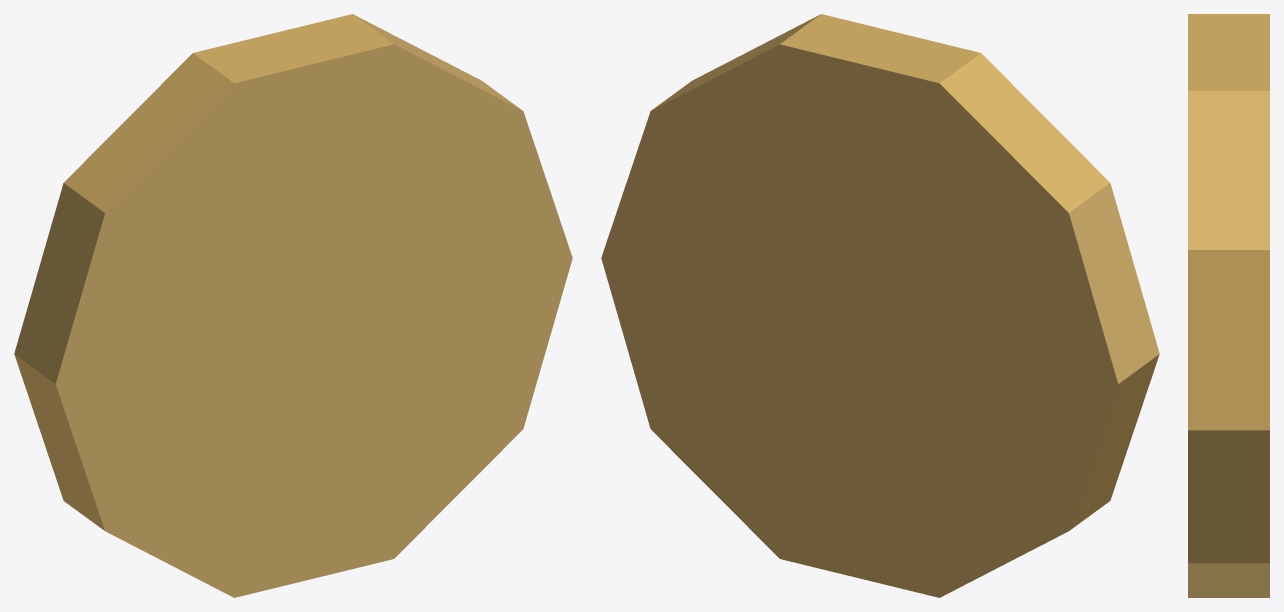
File: col_stamp.glb
3 renders of one model, left to right at view 1: azimuth 30°, elevation 25°; view 2: azimuth 150°, elevation 25°; view 3: azimuth 270°, elevation 25°, orthographic.
Visible parts, largest first — view 1: col_stamp2; view 2: col_stamp2; view 3: col_stamp2.
Part boxes in pixels (left/top/right/bottom): col_stamp2: left=14, top=14, right=572, bottom=597; col_stamp2: left=601, top=14, right=1159, bottom=597; col_stamp2: left=1188, top=14, right=1269, bottom=597.
Bounding box in the file's own units: 0.36 × 0.3424 × 0.05.
